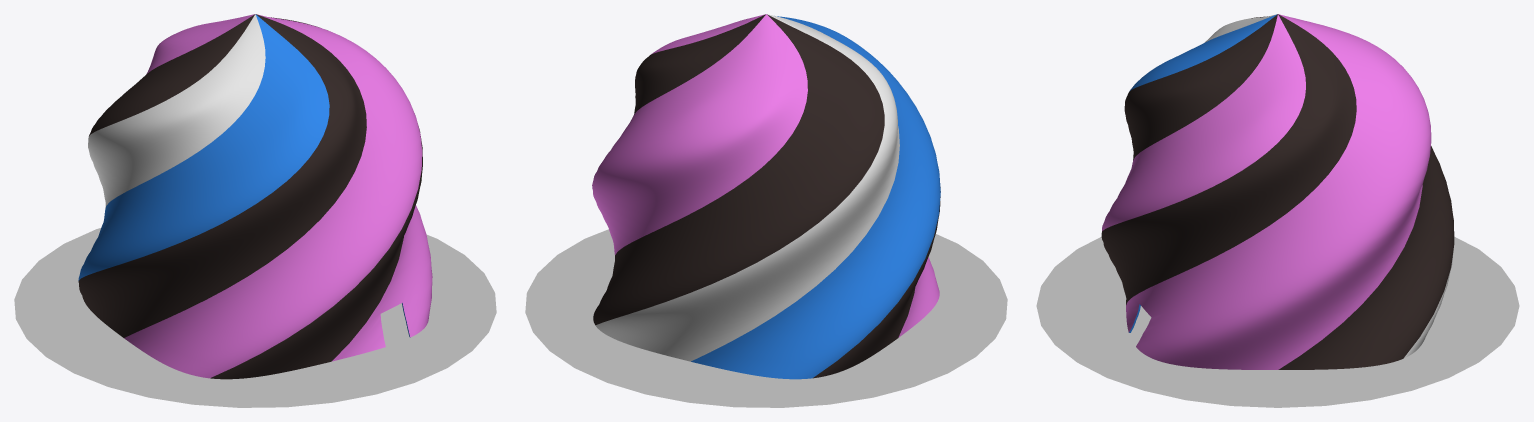
The model's file is default-sweet-candy.glb.
The picture shows the model from 3 angles, left to right: view 1: azimuth 30°, elevation 25°; view 2: azimuth 150°, elevation 25°; view 3: azimuth 270°, elevation 25°; orthographic projection.
Visible parts, largest first — view 1: Plane, Circle; view 2: Plane, Circle; view 3: Plane, Circle.
Part boxes in pixels (x1,y1,x2,y2): Plane: (78,14,432,379); Circle: (14,228,496,407); Plane: (592,14,940,379); Circle: (525,229,1007,407); Plane: (1101,14,1454,369); Circle: (1036,236,1519,407).
Bounding box in the file's own units: 30 × 20.08 × 30.
